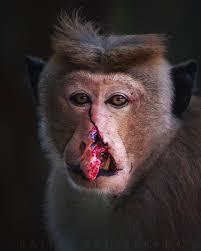cut: (48, 116, 133, 188)
